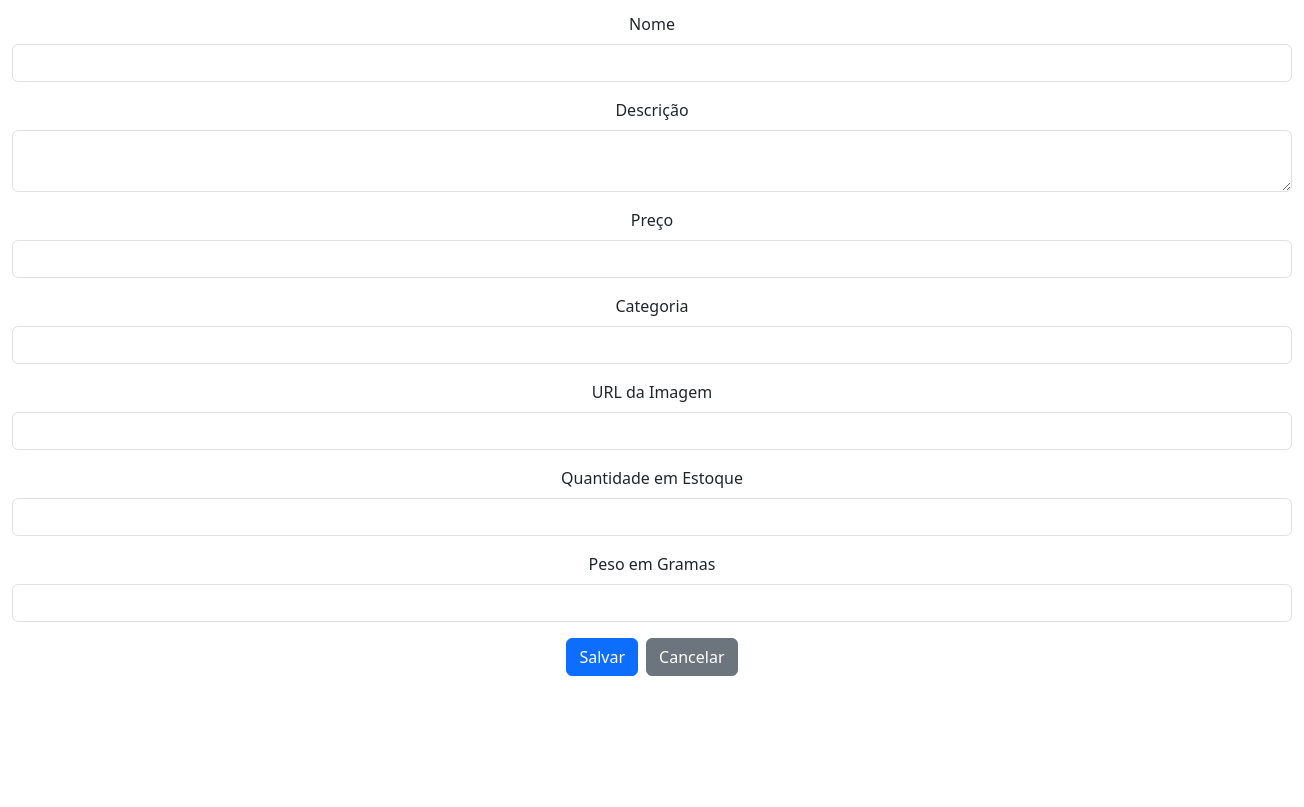
Test: ProductForm › should show validation errors for required fields
Click the button "Salvar": click(602, 657) [566,638,638,676]
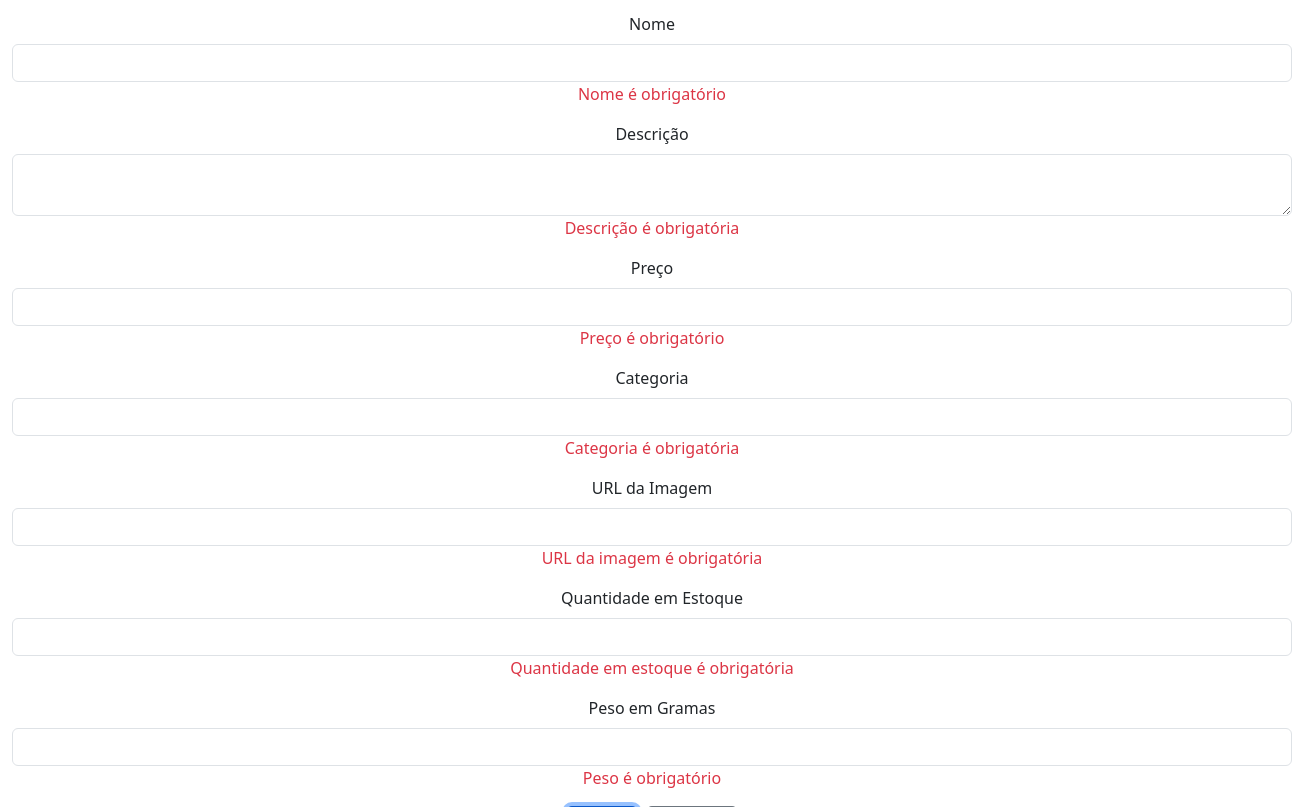
Now the text "Nome é obrigatório" is shown, box [578,83,726,105]
Now the text "Descrição é obrigatória" is shown, box [565,217,739,239]
Now the text "Preço é obrigatório" is shown, box [580,327,724,349]
